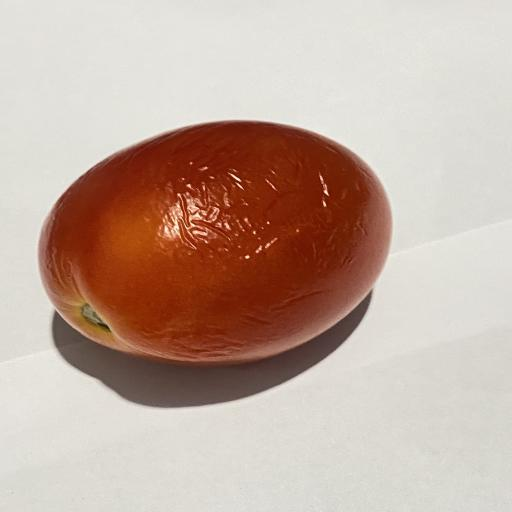spoiled: (39, 121, 391, 364)
